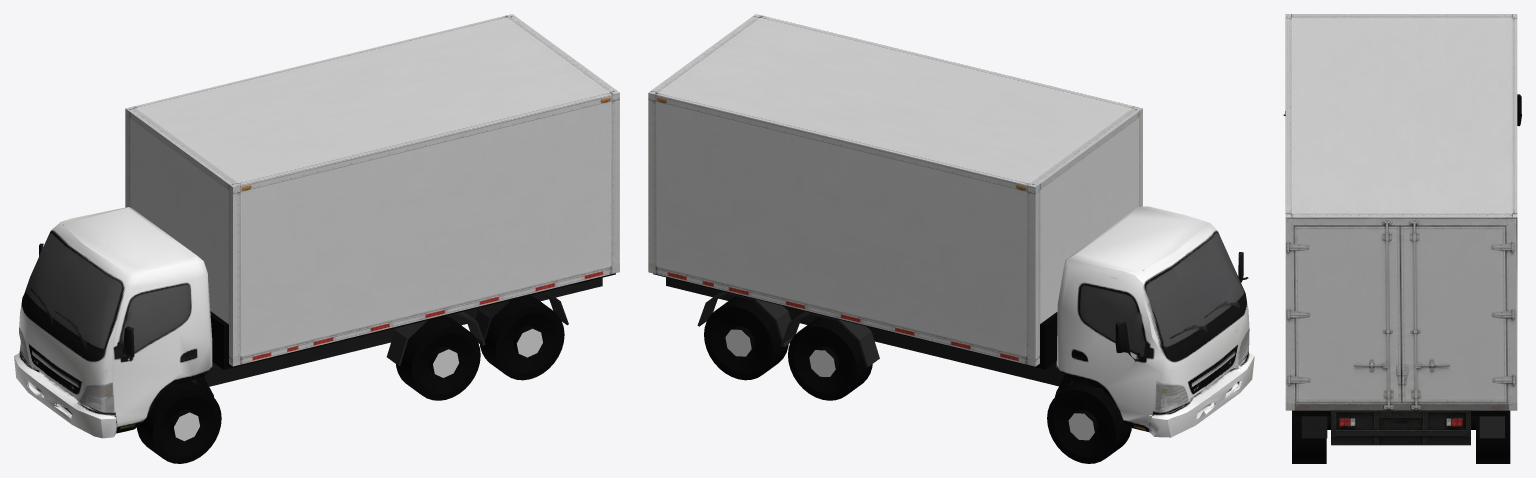
Rendered from Truck2_optimized.glb.
The picture shows the model from 3 angles, left to right: view 1: azimuth 30°, elevation 25°; view 2: azimuth 150°, elevation 25°; view 3: azimuth 270°, elevation 25°; orthographic projection. The views are drawn at different scales.
Visible parts, largest first — view 1: Cube.006, Head.003, BackTire, BackTire.001, FrontTire, Supporter, Mudguard.001, Mudguard, LowerPart, MiddlePart; view 2: Cube.006, Head.003, BackTire, BackTire.001, FrontTire, Supporter, Mudguard2.001, Mudguard2, MiddlePart, LowerPart; view 3: Cube.006, Supporter, BackTire, Mudguard, Mudguard2, LowerPart.
Boxes of the visible parts, box(x1,y1,x2,y2) form: Cube.006: box(125, 14, 619, 366); Head.003: box(14, 207, 214, 438); BackTire: box(480, 295, 564, 380); BackTire.001: box(396, 316, 480, 400); FrontTire: box(137, 380, 221, 463); Supporter: box(191, 277, 602, 386); Mudguard.001: box(386, 312, 485, 365); Mudguard: box(474, 291, 568, 345); LowerPart: box(212, 273, 615, 369); MiddlePart: box(210, 311, 228, 366); Cube.006: box(648, 14, 1142, 366); Head.003: box(1055, 206, 1254, 437); BackTire: box(704, 296, 788, 380); BackTire.001: box(788, 316, 872, 400); FrontTire: box(1047, 382, 1131, 463); Supporter: box(666, 277, 1074, 386); Mudguard2.001: box(781, 311, 879, 367); Mudguard2: box(697, 291, 793, 346); MiddlePart: box(1040, 312, 1057, 365); LowerPart: box(653, 273, 1056, 369); Cube.006: box(1285, 14, 1517, 410); Supporter: box(1331, 410, 1470, 445); BackTire: box(1292, 410, 1510, 463); Mudguard: box(1301, 416, 1327, 438); Mudguard2: box(1479, 416, 1504, 438); LowerPart: box(1294, 410, 1507, 416).
Size of the model in its own units: 2.13 by 1.04 by 0.7835.
7 materials, 3 textured.
